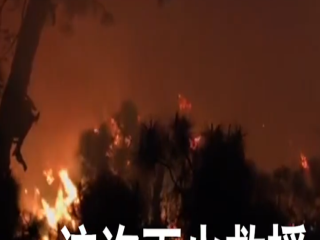fire: (24, 169, 87, 226), (100, 117, 137, 156), (175, 95, 195, 115), (295, 152, 311, 173), (192, 134, 199, 146)
